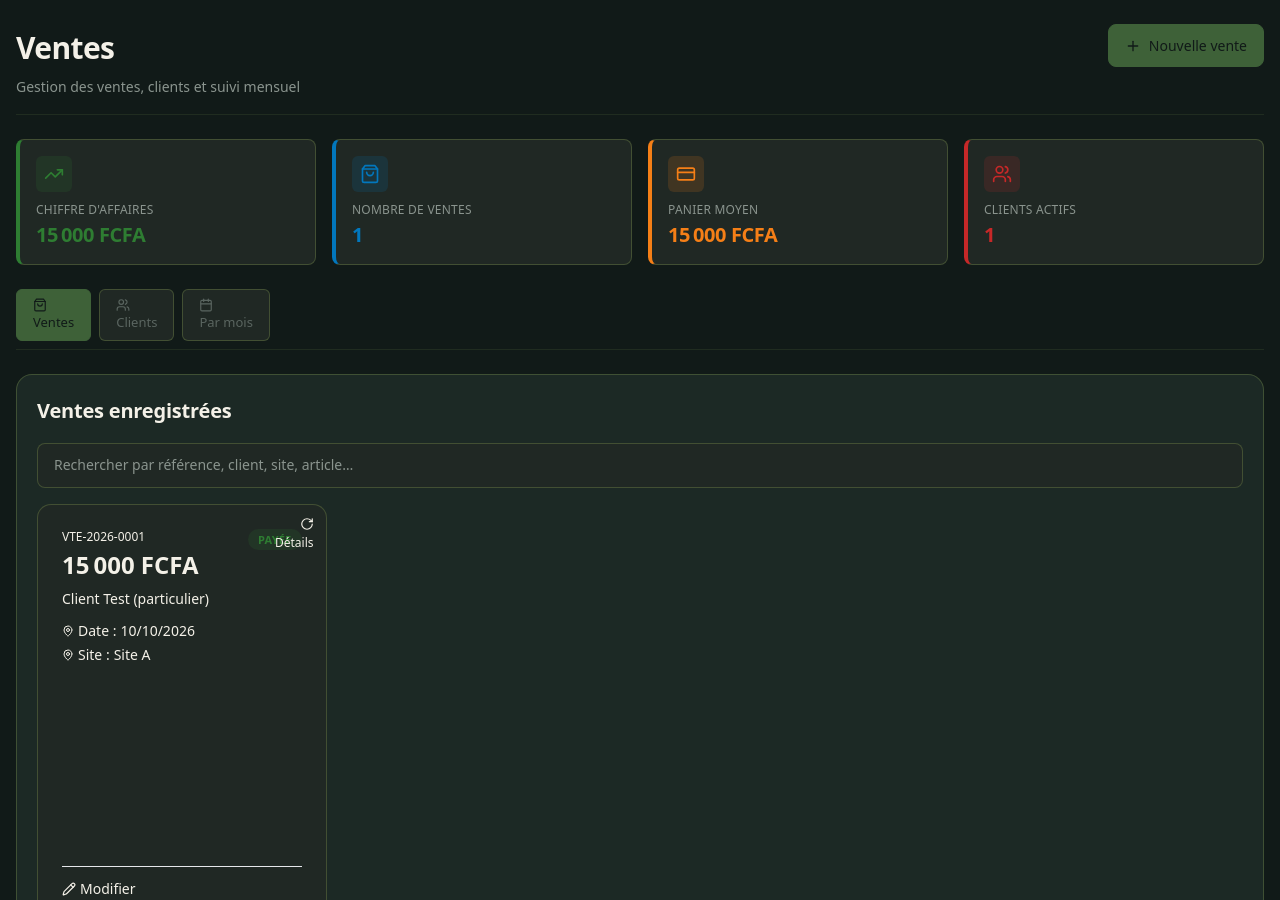
Scenario: SalesModule — régression (Éditer la vente) › modification réussie : anciens articles supprimés, nouveaux insérés, audit et toast de succès
The width and height of the screenshot is (1280, 900).
Click the button "Modifier": {"x": 99, "y": 889} [62, 879, 136, 899]
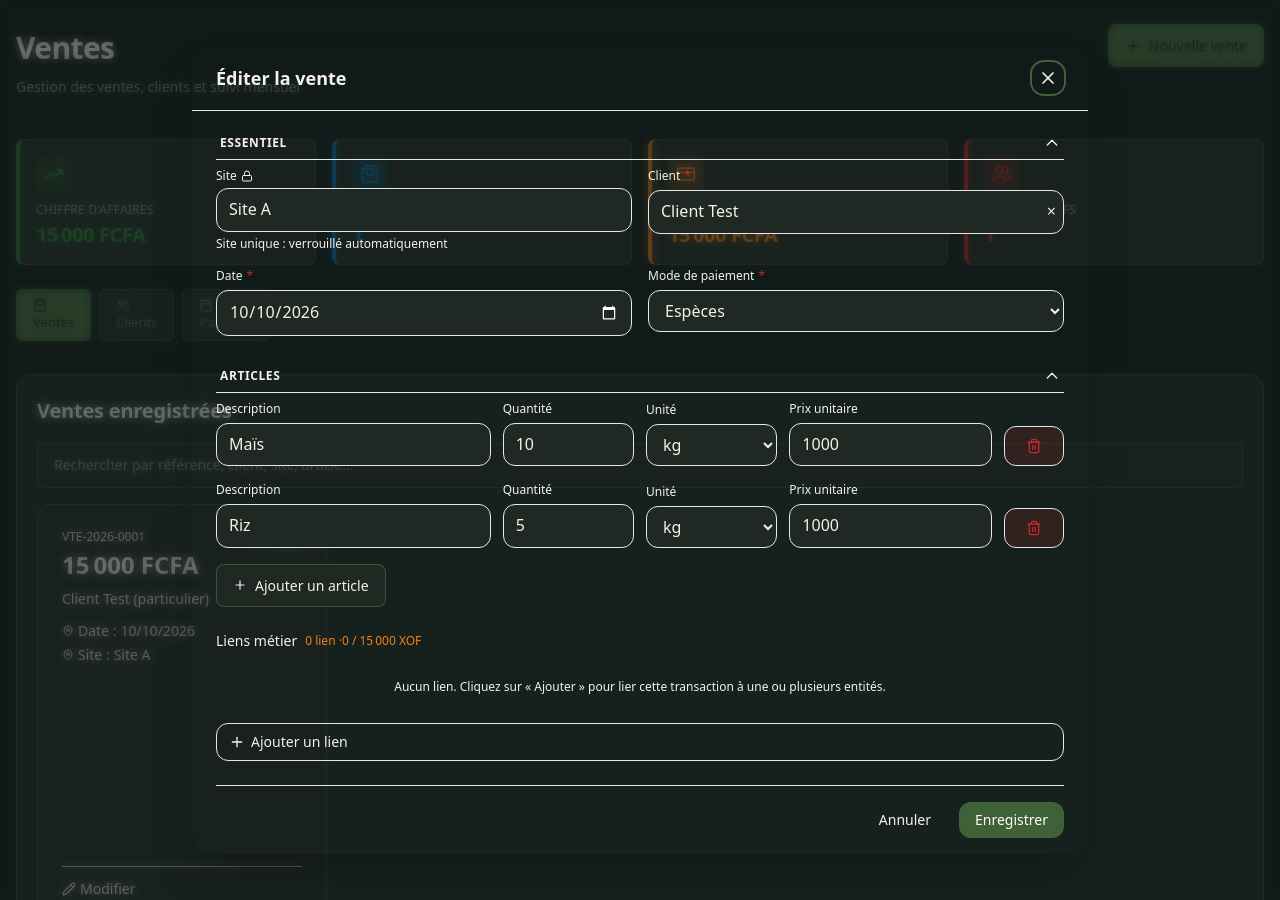
Expected: the heading "Éditer la vente" is shown, [216, 64, 346, 92]
Click the button "Enregistrer": {"x": 1012, "y": 820} [959, 802, 1064, 838]
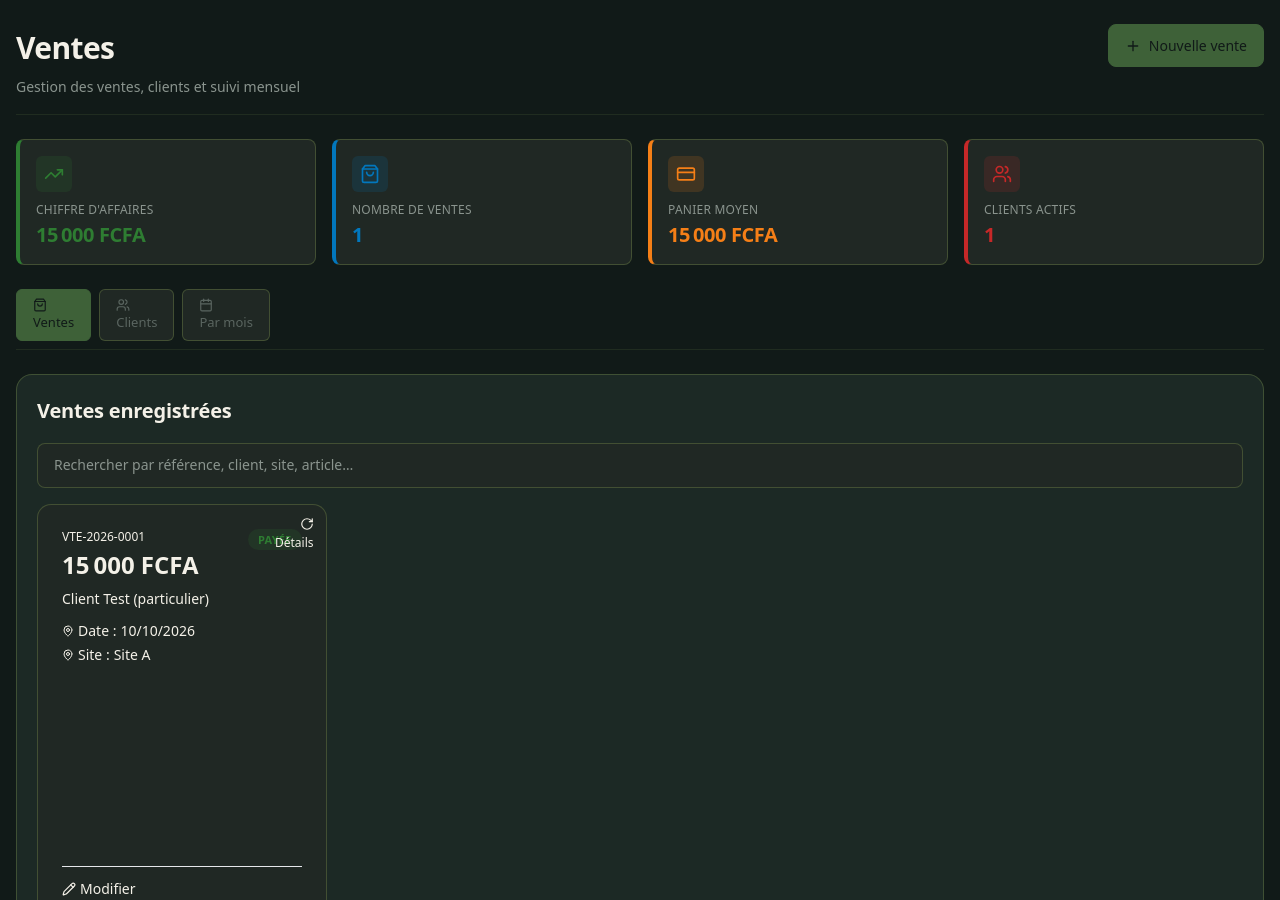
Expected: the heading "Éditer la vente" is gone
